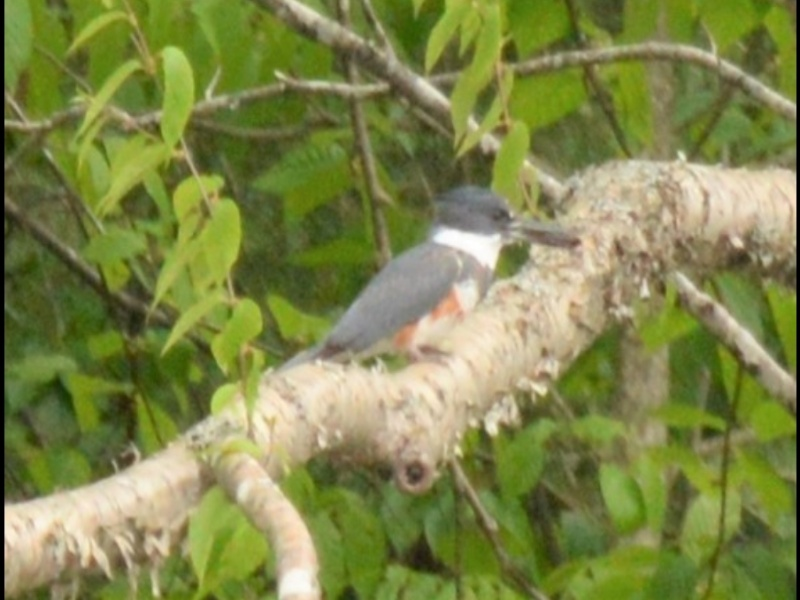kingfisher: (281, 184, 580, 386)
